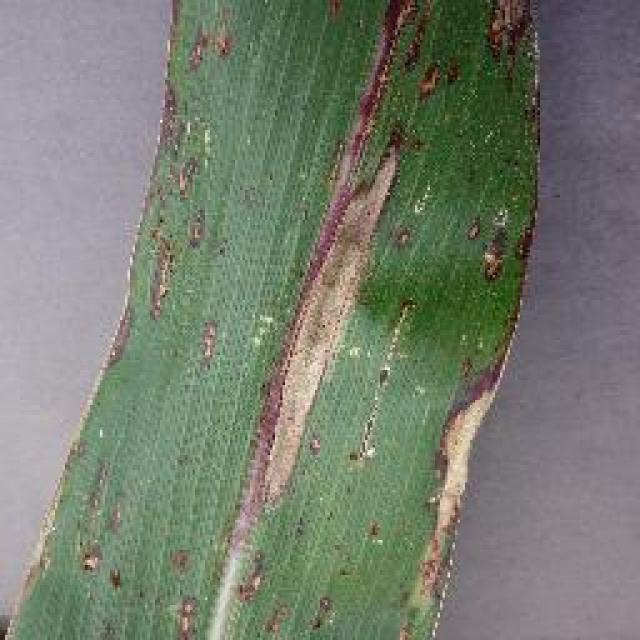Corn___Northern_Leaf_Blight: (130, 0, 505, 586)
